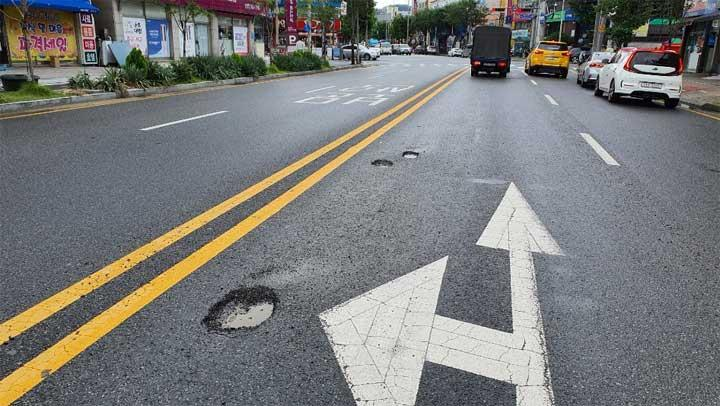pothole: (192, 262, 291, 343), (397, 143, 428, 164), (368, 154, 389, 173)
